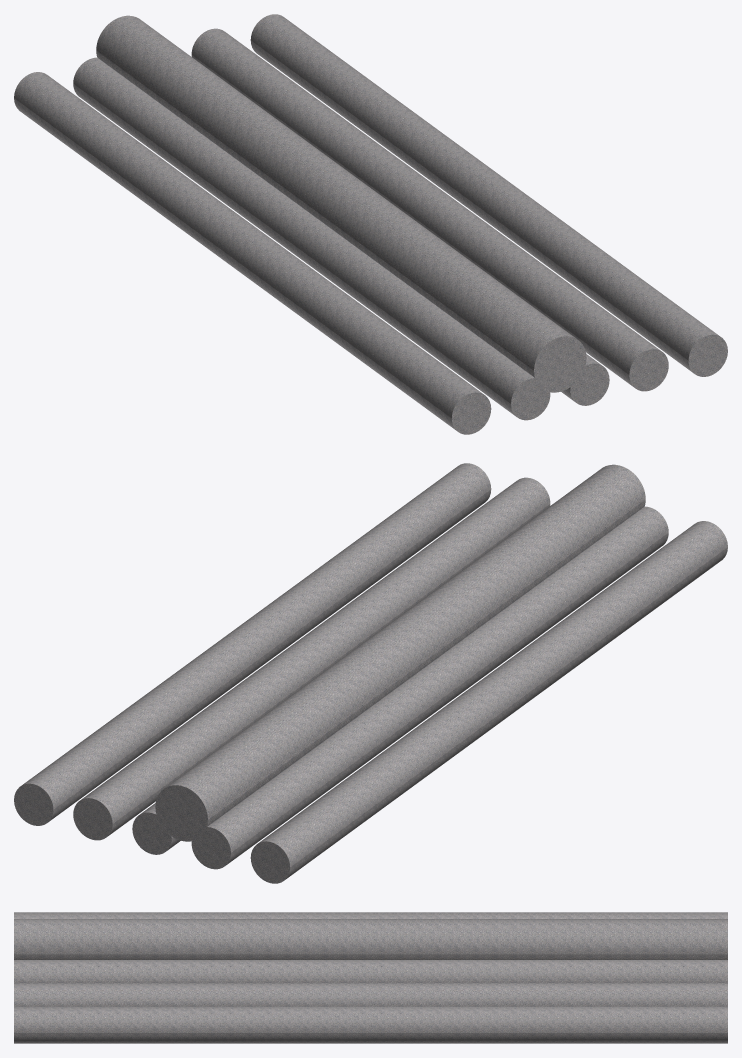
3 renders of one model, top to bottom at view 1: azimuth 30°, elevation 25°; view 2: azimuth 150°, elevation 25°; view 3: azimuth 270°, elevation 25°, orthographic. The views are drawn at different scales.
Visible parts, largest first — view 1: 0_2_0_0_3_3_2_0; view 2: 0_2_0_0_3_3_2_0; view 3: 0_2_0_0_3_3_2_0.
Part boxes in pixels (x1=…): 0_2_0_0_3_3_2_0: x1=14, y1=14, x2=727, y2=434; 0_2_0_0_3_3_2_0: x1=14, y1=463, x2=727, y2=883; 0_2_0_0_3_3_2_0: x1=14, y1=912, x2=727, y2=1043.
Bounding box in the file's own units: 4.2 × 1.1 × 11.53.
Materials: 6 (6 with a texture image).
